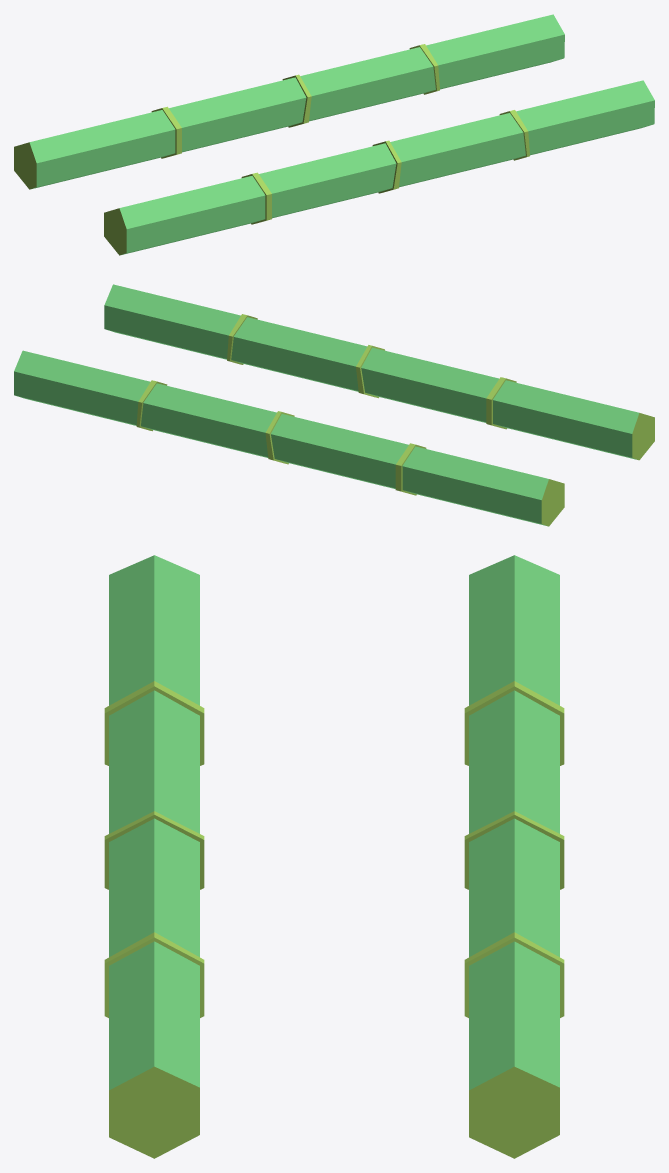
File: BambooPlatform2.fbx
3 renders of one model, top to bottom at view 1: azimuth 30°, elevation 25°; view 2: azimuth 150°, elevation 25°; view 3: azimuth 270°, elevation 25°, orthographic. The views are drawn at different scales.
Visible parts, largest first — view 1: PlatformBamboo2, PlatformBamboo3; view 2: PlatformBamboo2, PlatformBamboo3; view 3: PlatformBamboo2, PlatformBamboo3.
Boxes of the visible parts, left/top/right/bottom form: PlatformBamboo2: left=14, top=14, right=564, bottom=189; PlatformBamboo3: left=104, top=80, right=654, bottom=255; PlatformBamboo2: left=14, top=350, right=564, bottom=526; PlatformBamboo3: left=104, top=284, right=654, bottom=460; PlatformBamboo2: left=464, top=555, right=564, bottom=1158; PlatformBamboo3: left=104, top=555, right=204, bottom=1158.
Size of the model in its own units: 9.32 by 0.8554 by 3.51.
